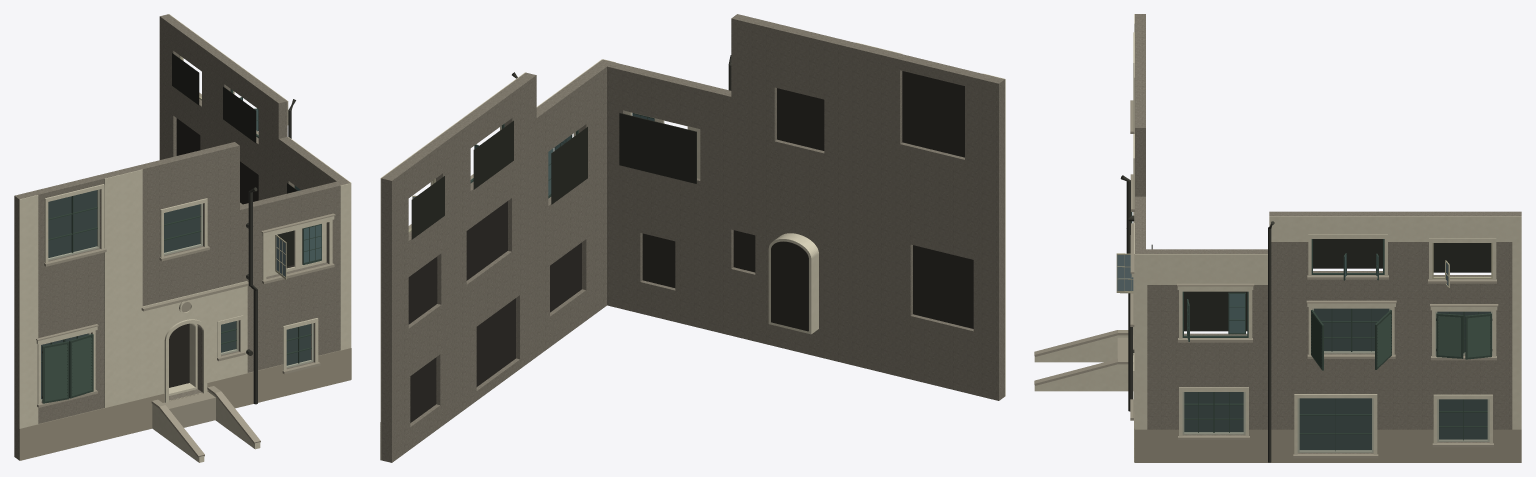
File: full-source.glb
The picture shows the model from 3 angles, left to right: view 1: azimuth 30°, elevation 25°; view 2: azimuth 150°, elevation 25°; view 3: azimuth 270°, elevation 25°; orthographic projection. The views are drawn at different scales.
Parts seen in each view (by area): view 1: 延庆路159号住宅庭院拱门与临街转角; view 2: 延庆路159号住宅庭院拱门与临街转角; view 3: 延庆路159号住宅庭院拱门与临街转角.
Part boxes in pixels (box(x1,y1,x2,y2)): 延庆路159号住宅庭院拱门与临街转角: box(14, 14, 351, 462); 延庆路159号住宅庭院拱门与临街转角: box(380, 14, 1005, 462); 延庆路159号住宅庭院拱门与临街转角: box(1034, 14, 1521, 462).
Bounding box in the file's own units: 11.8 × 8.1 × 12.91.
14 materials, 2 textured.
